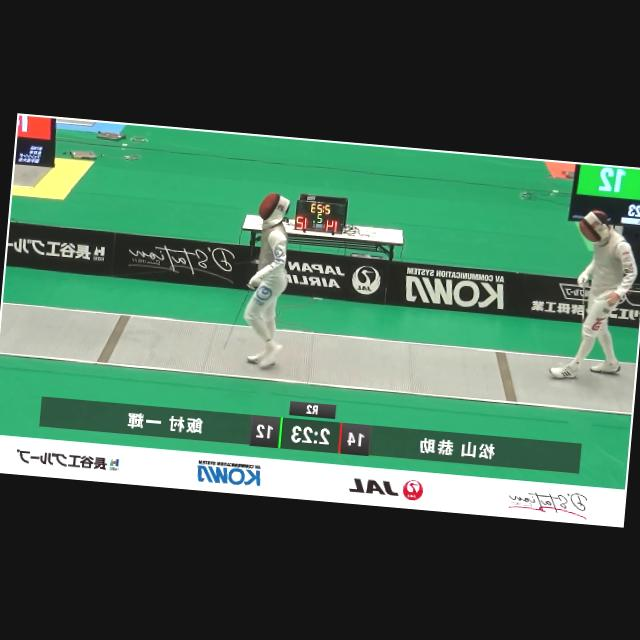blade: (220, 276, 262, 356), (566, 278, 589, 350)
